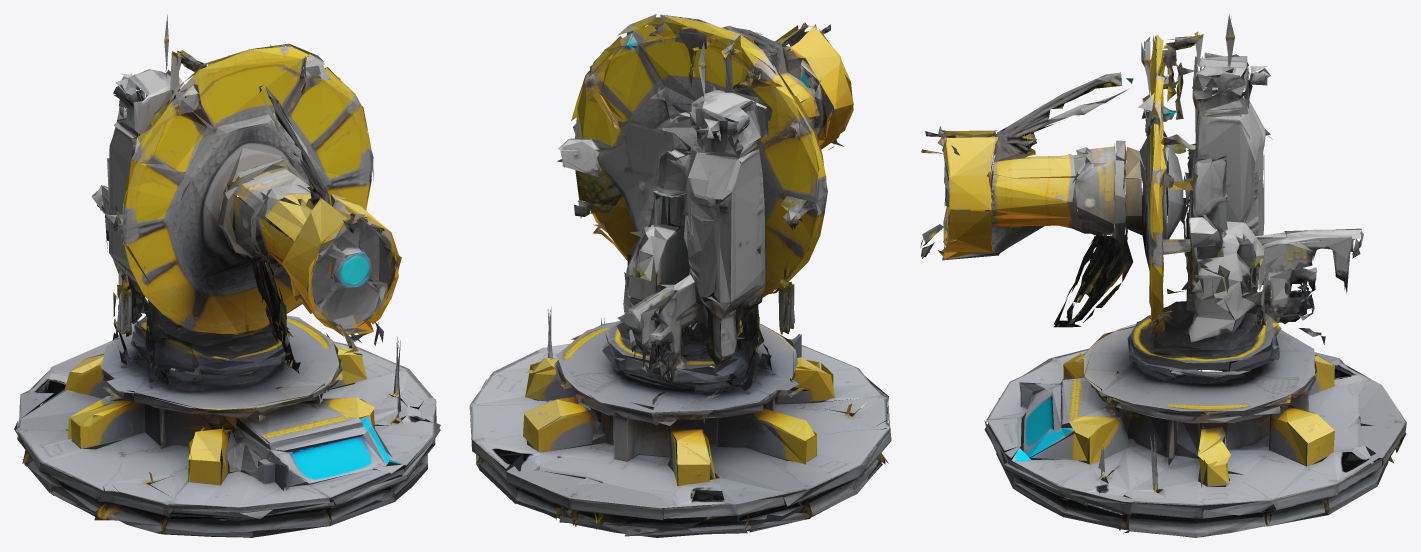
The model's file is radar_center_t2.fbx.
3 renders of one model, left to right at view 1: azimuth 30°, elevation 25°; view 2: azimuth 150°, elevation 25°; view 3: azimuth 270°, elevation 25°, orthographic. The views are drawn at different scales.
Visible parts, largest first — view 1: radar_center_t2; view 2: radar_center_t2; view 3: radar_center_t2.
Boxes of the visible parts, left/top/right/bottom form: radar_center_t2: left=14, top=14, right=440, bottom=537; radar_center_t2: left=469, top=14, right=891, bottom=537; radar_center_t2: left=920, top=14, right=1406, bottom=537.
Size of the model in its own units: 3.68 by 4.11 by 4.3.
1 material, 1 textured.
